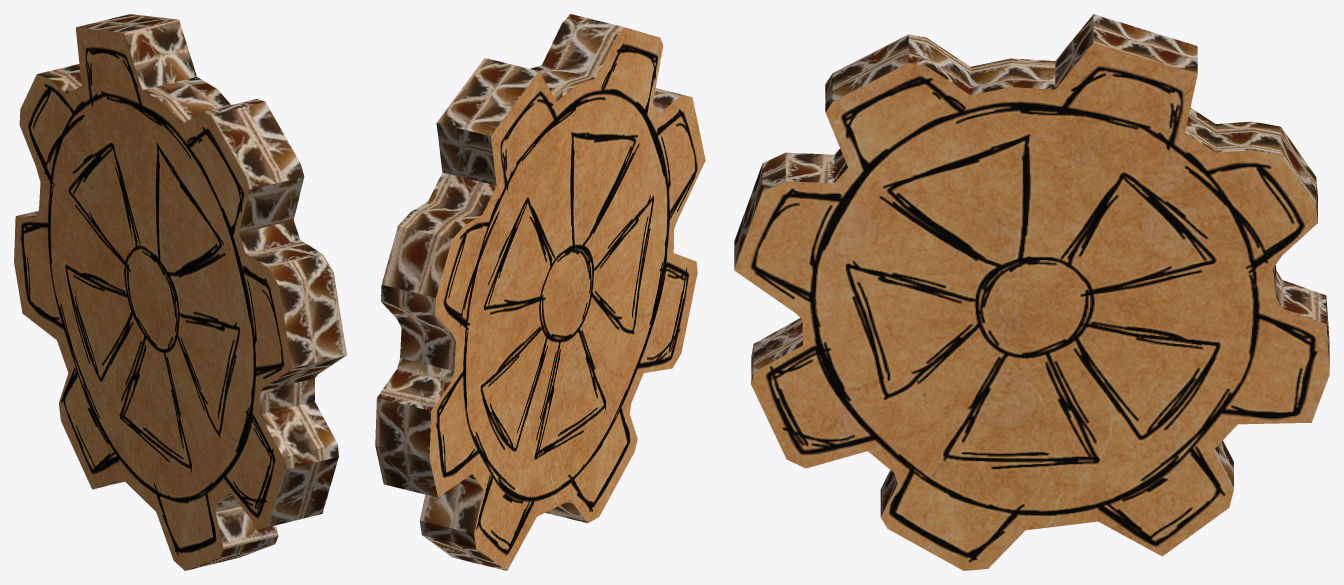
File: Gear_2.fbx
3 renders of one model, left to right at view 1: azimuth 30°, elevation 25°; view 2: azimuth 150°, elevation 25°; view 3: azimuth 270°, elevation 25°, orthographic. The views are drawn at different scales.
Parts seen in each view (by area): view 1: Plane.003; view 2: Plane.003; view 3: Plane.003.
Part boxes in pixels (x1,y1,x2,y2): Plane.003: [14, 14, 346, 570]; Plane.003: [375, 14, 705, 570]; Plane.003: [734, 14, 1329, 570].
Bounding box in the file's own units: 5.5 × 47.4 × 48.43.
